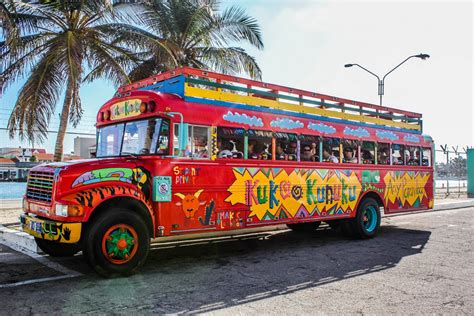bus: (33, 77, 433, 244)
